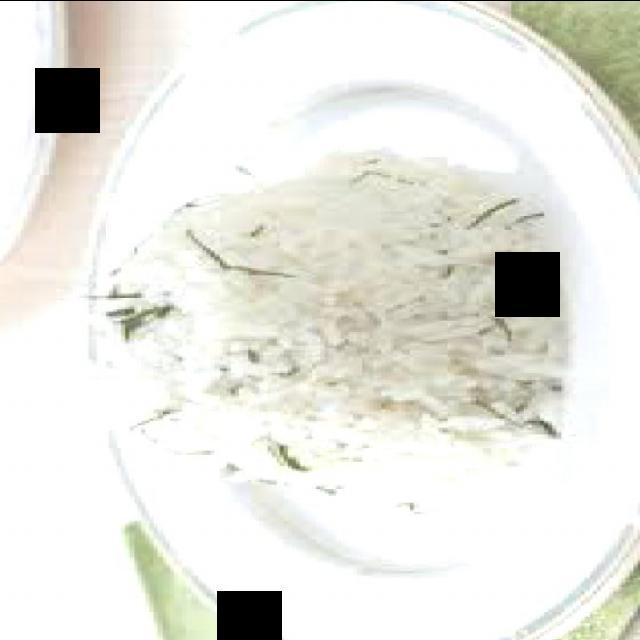rice: (98, 151, 565, 511)
